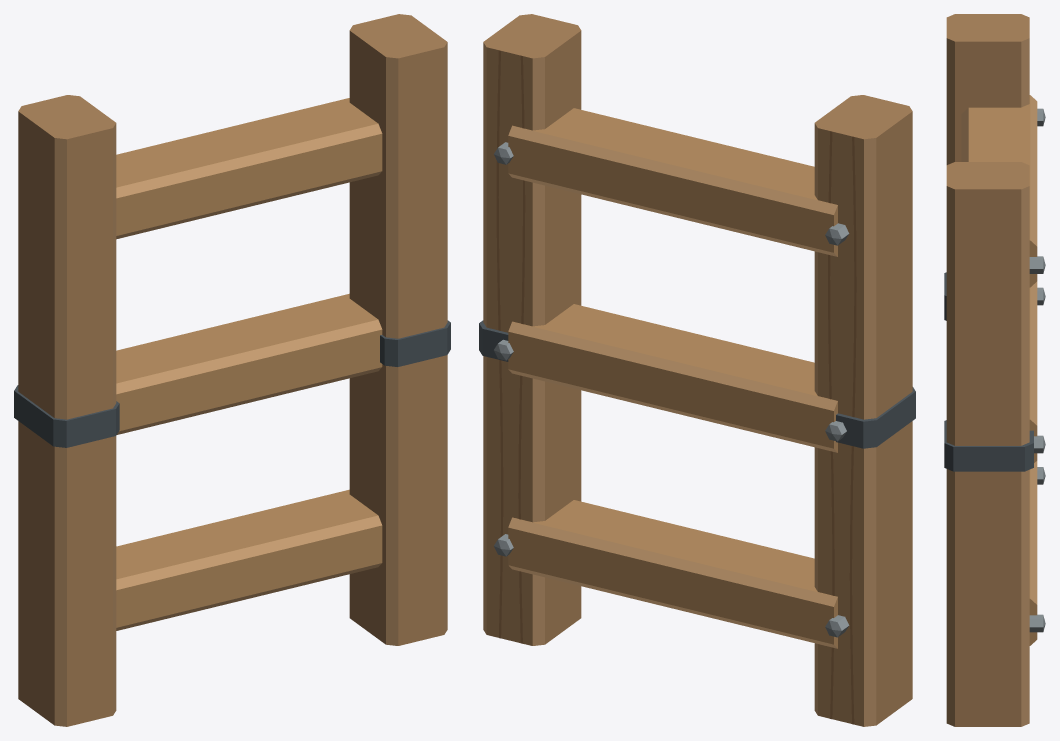
The model's file is ladder.glb.
The picture shows the model from 3 angles, left to right: view 1: azimuth 30°, elevation 25°; view 2: azimuth 150°, elevation 25°; view 3: azimuth 270°, elevation 25°; orthographic projection. The views are drawn at different scales.
Visible parts, largest first — view 1: Ladder section; view 2: Ladder section; view 3: Ladder section.
Boxes of the visible parts, box(x1,y1,x2,y2) form: Ladder section: box(14, 14, 450, 726); Ladder section: box(479, 14, 915, 726); Ladder section: box(944, 14, 1045, 726).
Bounding box in the file's own units: 0.708 × 1 × 0.171.
